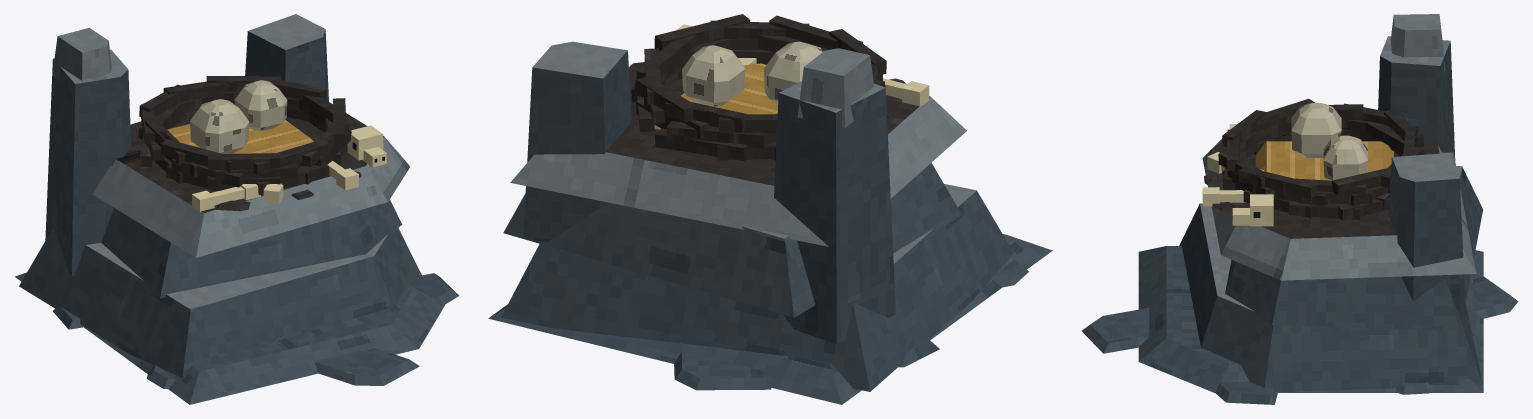
File: wyvern_lair_v2.glb
3 views of the same model, side by side, from view 1: azimuth 30°, elevation 25°; view 2: azimuth 150°, elevation 25°; view 3: azimuth 270°, elevation 25° (orthographic). The views are drawn at different scales.
Visible parts, largest first — view 1: Model; view 2: Model; view 3: Model.
Boxes of the visible parts, bbox=[...] form: Model: bbox=[15, 14, 459, 404]; Model: bbox=[488, 14, 1052, 404]; Model: bbox=[1082, 14, 1518, 404].
Bounding box in the file's own units: 1.21 × 0.8743 × 1.4.
Materials: 1 (1 with a texture image).
